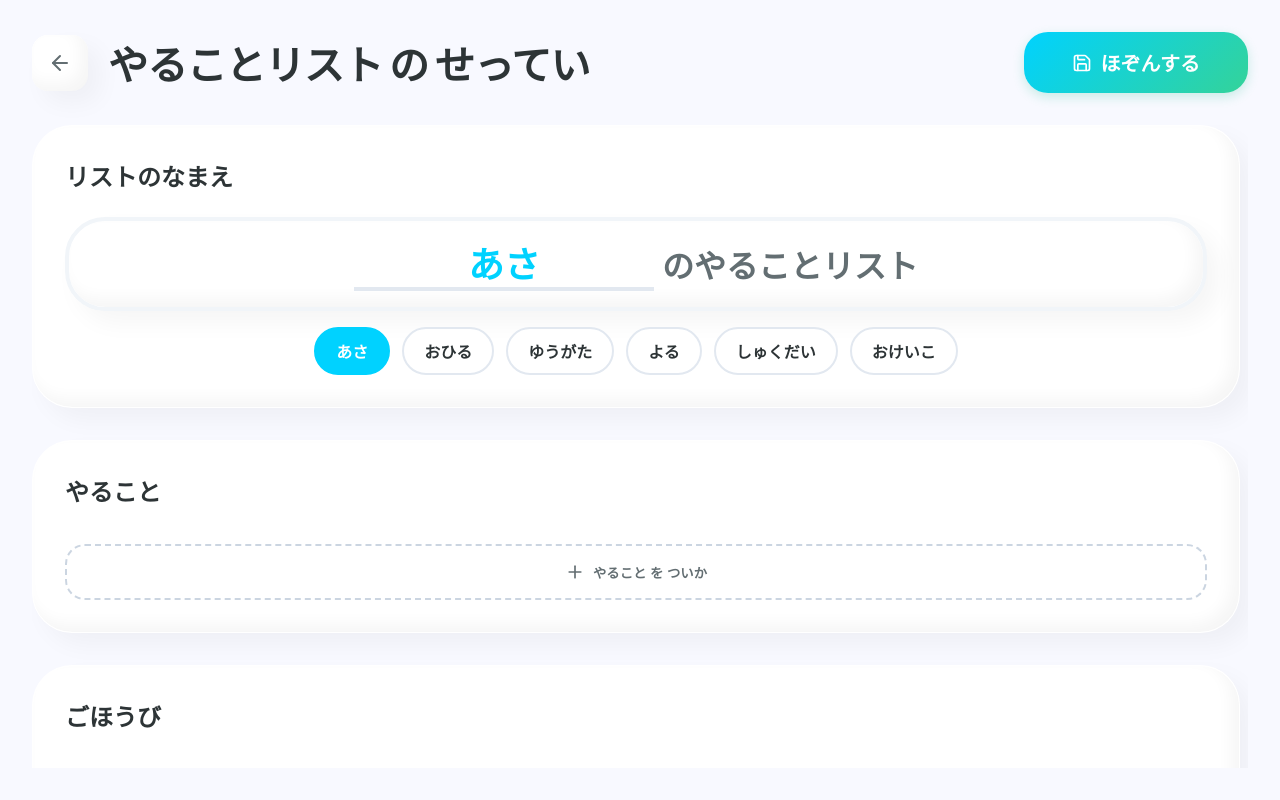
Scenario: TodoListSettings › リスト名の選択チップ › 手入力後に別の名前を選ぶと確認ダイアログが表示されること
This screenshot has width=1280, height=800.
Replace the text in the field with placeholder "なまえ" with "じぶんのなまえ". click: (504, 264)
box: [354,237,654,291]
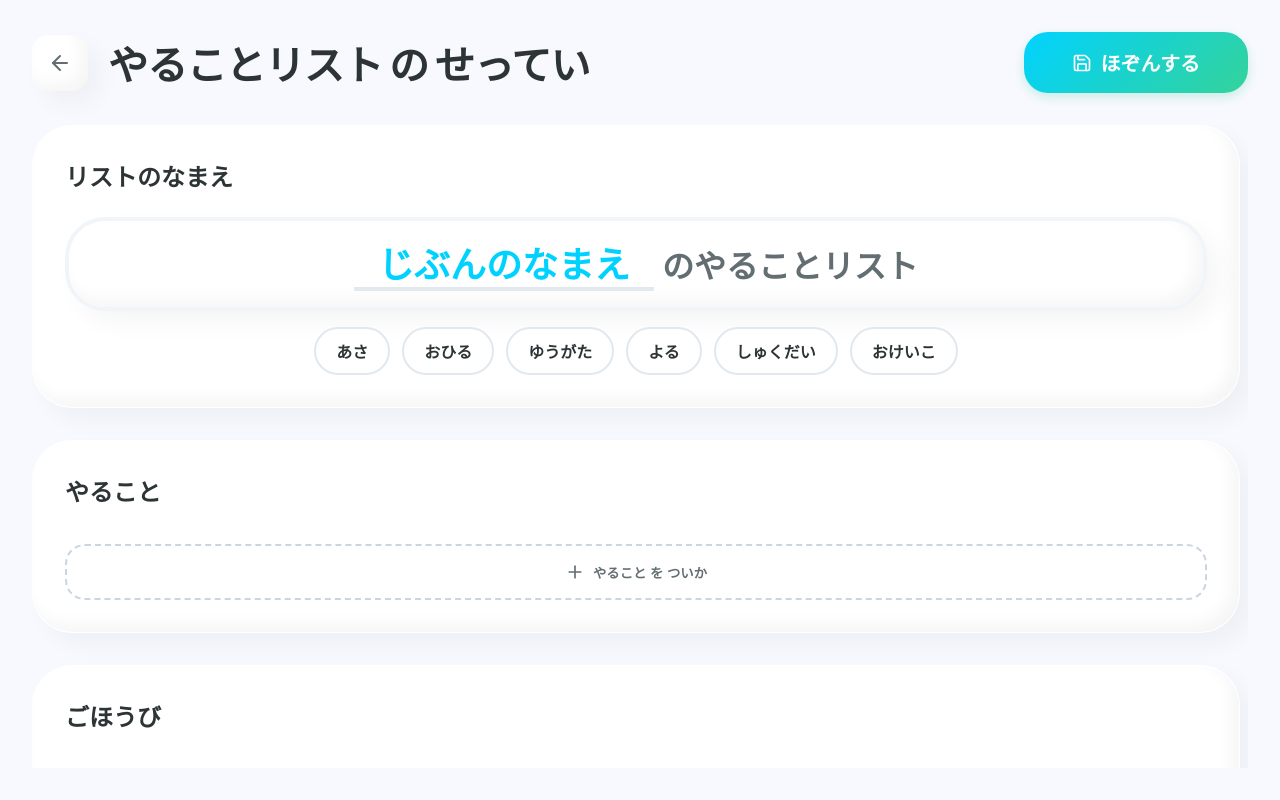
Click the button "よる". click: (664, 351)
box: [626,327,702,375]
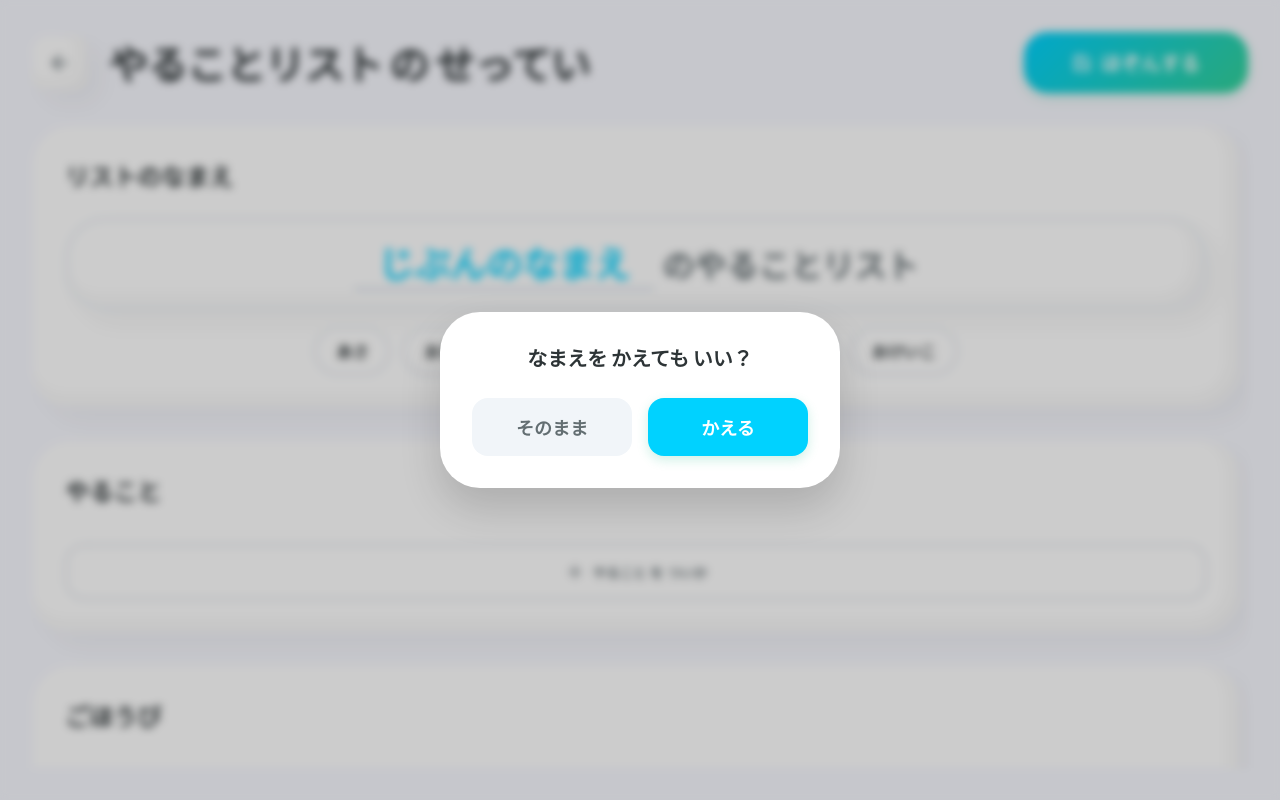
Expected: the text "なまえを かえても いい？" is shown, [527,346,753,371]
